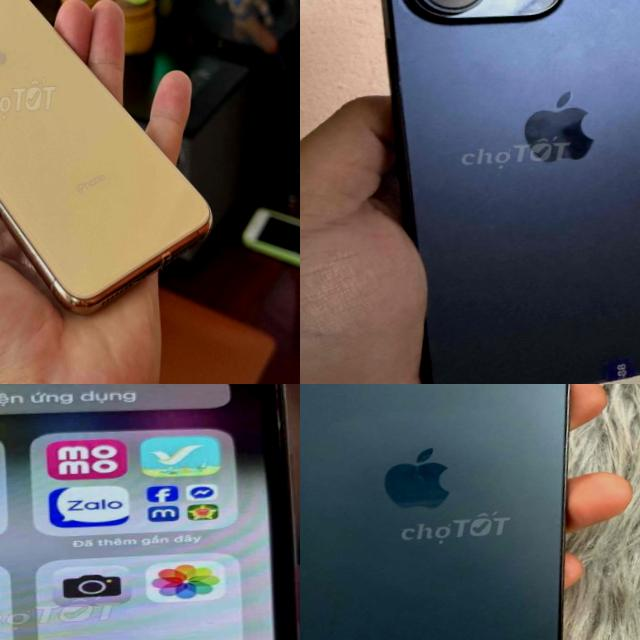gen_12_13: (300, 384, 602, 640)
gen_15: (361, 0, 640, 384)
gen_x_xs: (0, 384, 300, 640), (0, 0, 211, 312)
physical_damage: (503, 0, 579, 24)
